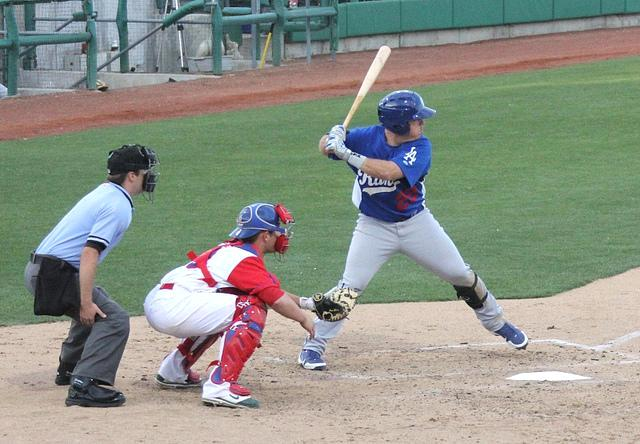bat: (344, 44, 392, 128)
